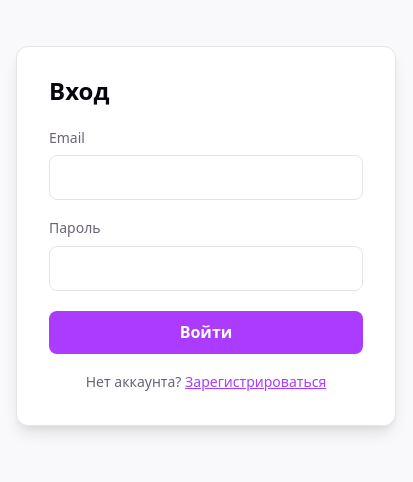
Scenario: Login page › shows the server error message on failure
Step 1. Type "alice@example.com" into the field labelled "Email" → (206, 178), box [49, 155, 363, 200]
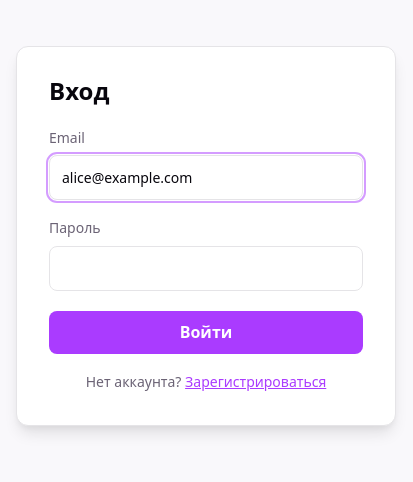
Step 2. Type "wrong" into the password field labelled "Пароль" → (206, 268), box [49, 246, 363, 291]
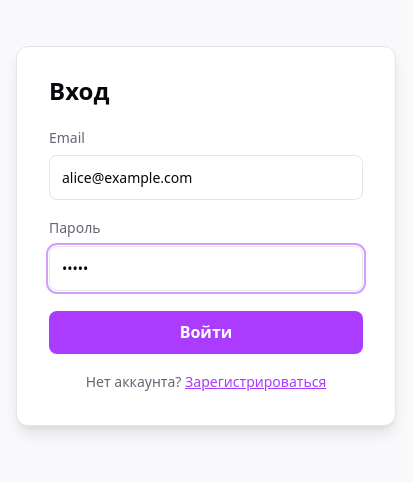
Step 3. Click the button "Войти" → (206, 332), box [49, 311, 363, 354]
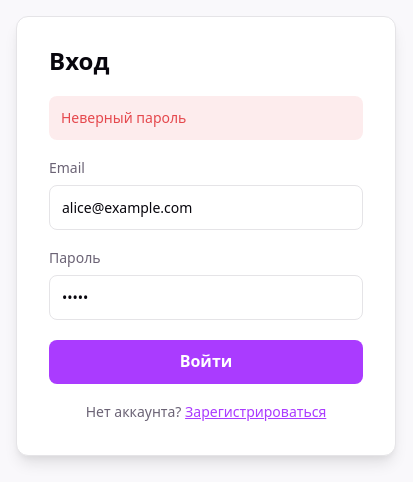
Check: the text "Неверный пароль" is shown, box [49, 96, 363, 140]
